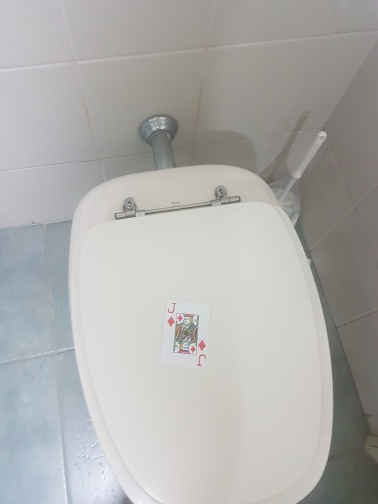jack: (157, 300, 209, 372)
